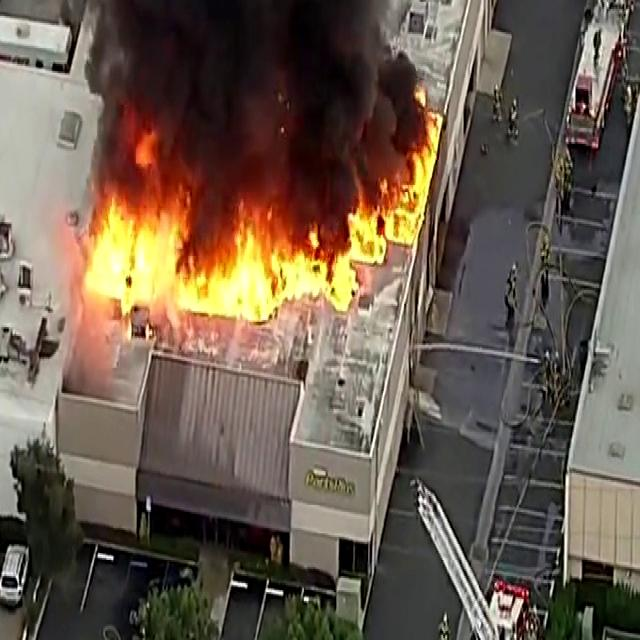fire: (74, 122, 194, 333), (308, 131, 448, 304), (176, 205, 304, 332)
smoke: (83, 0, 375, 126)
